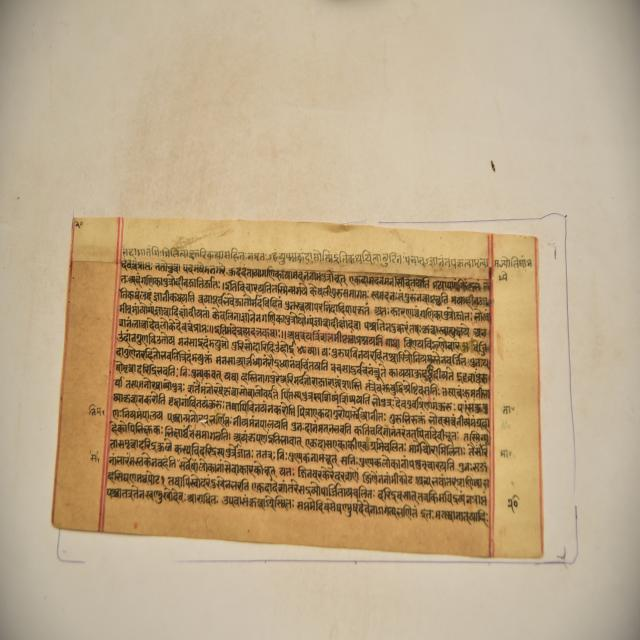text_paragraph: (51, 216, 541, 555)
